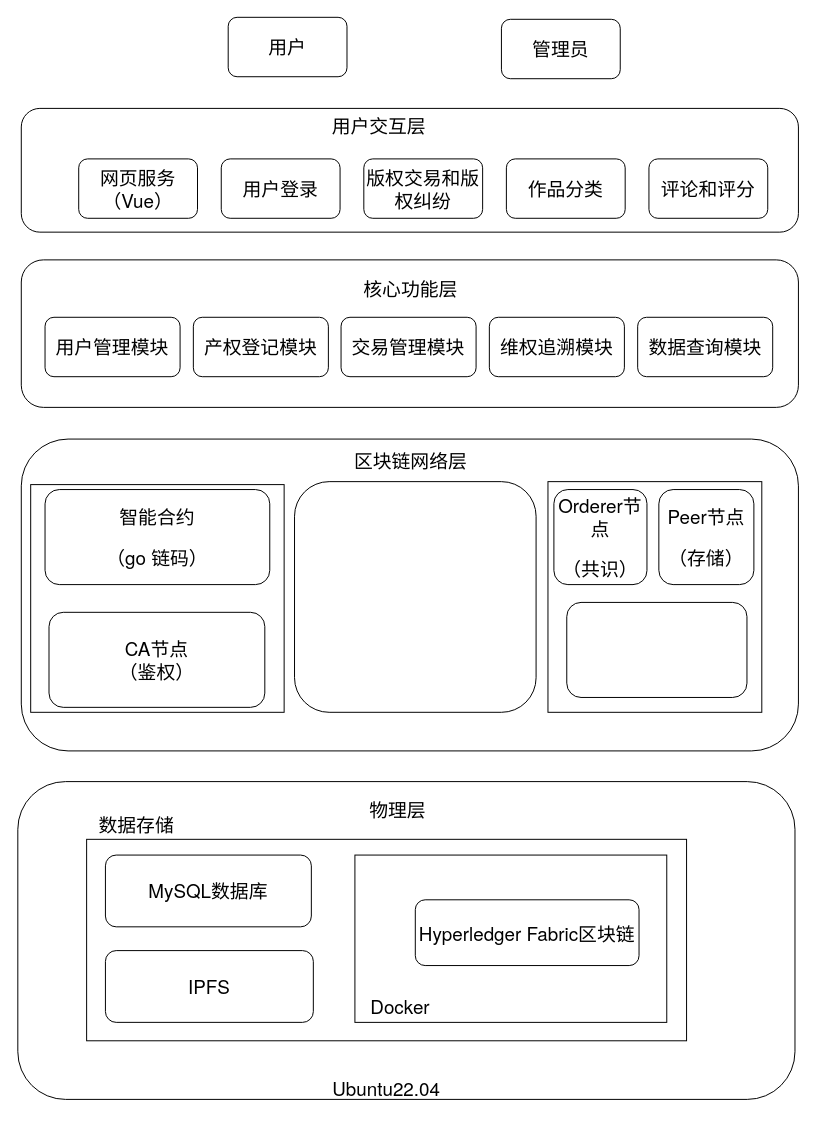
Some shapes in this 816 by 1133 pixel diagram are drawn without their labels. The centre of each missing label's shape, as x and y in pixels:
共识算法 （Raft）: (656,649)
通道机制 （ 隔离业务场景 ）: (415,596)
